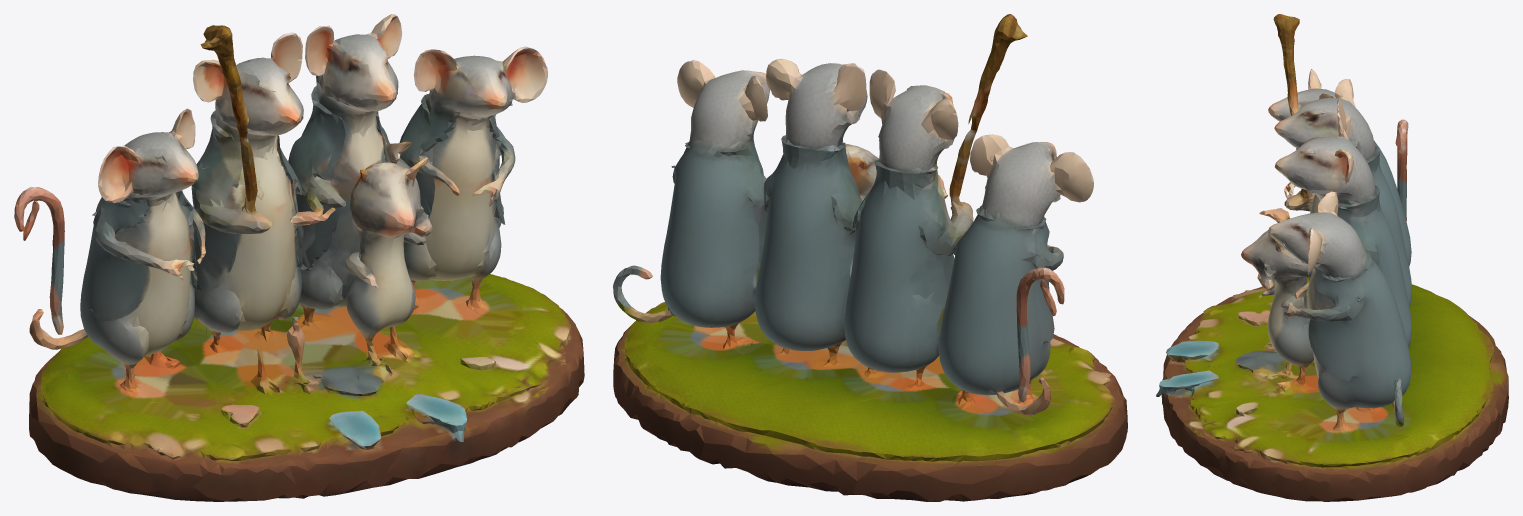
3 renders of one model, left to right at view 1: azimuth 30°, elevation 25°; view 2: azimuth 150°, elevation 25°; view 3: azimuth 270°, elevation 25°, orthographic. The views are drawn at different scales.
Parts seen in each view (by area): view 1: PackUnity; view 2: PackUnity; view 3: PackUnity.
Part boxes in pixels (bbox=[...]): PackUnity: bbox=[14, 14, 584, 501]; PackUnity: bbox=[613, 14, 1127, 501]; PackUnity: bbox=[1156, 14, 1508, 501].
Size of the model in its own units: 1.9 by 1.53 by 1.42.
Materials: 1 (1 with a texture image).
